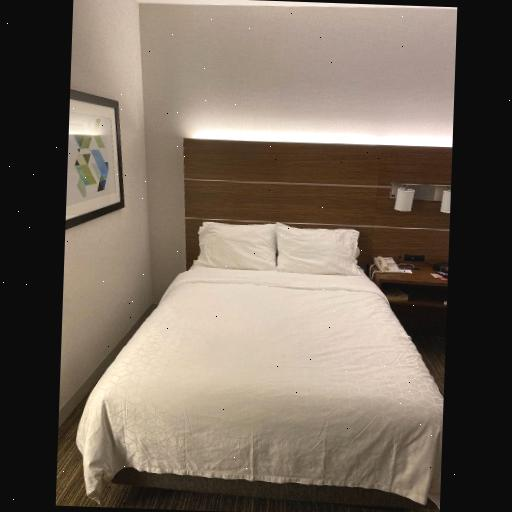clean_bed: (88, 135, 442, 510)
organised_pillow: (198, 218, 359, 274)
